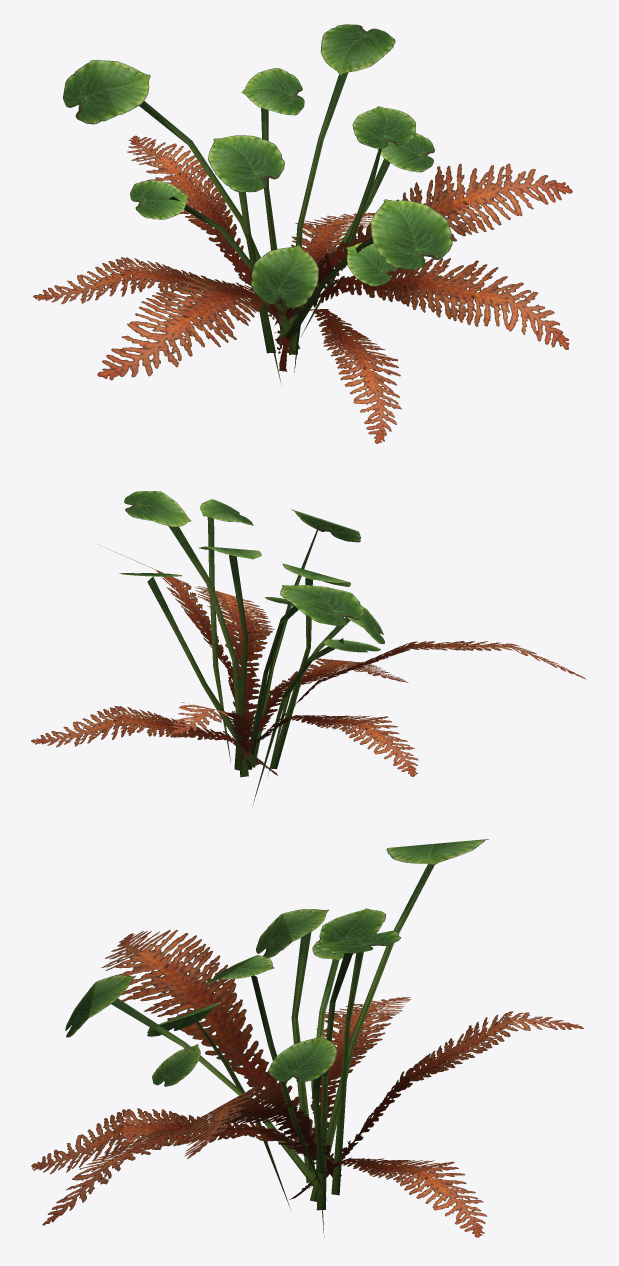
The model's file is SC001Jzhiwu_39.FBX.
3 renders of one model, top to bottom at view 1: azimuth 30°, elevation 25°; view 2: azimuth 150°, elevation 25°; view 3: azimuth 270°, elevation 25°, orthographic. The views are drawn at different scales.
Visible parts, largest first — view 1: SC001Jzhiwu_39; view 2: SC001Jzhiwu_39; view 3: SC001Jzhiwu_39.
Boxes of the visible parts, x1,y1,x2,y2 form: SC001Jzhiwu_39: (33, 24, 572, 443); SC001Jzhiwu_39: (31, 491, 586, 805); SC001Jzhiwu_39: (31, 839, 583, 1237).
Size of the model in its own units: 2.3 by 1.28 by 1.94.
